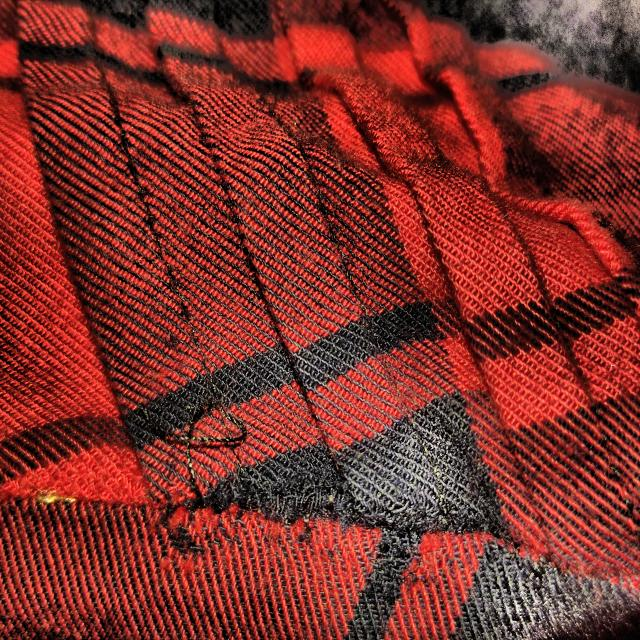Stitch: (158, 400, 380, 558)
